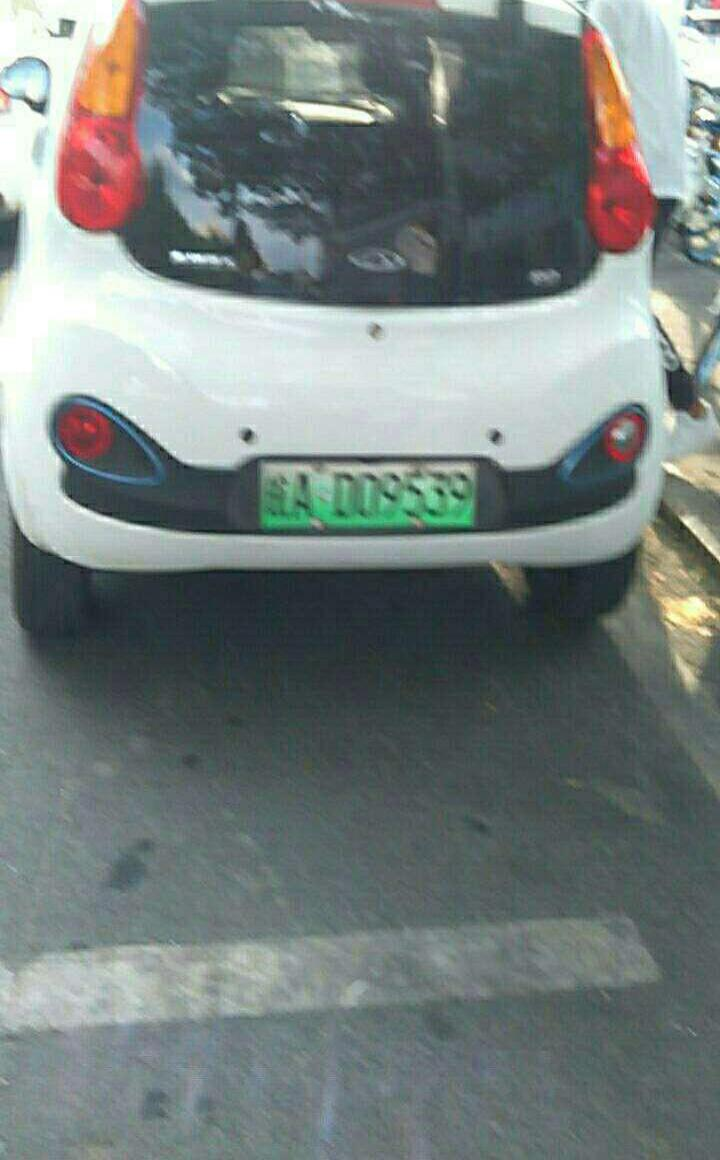car_id: (259, 455, 478, 534)
